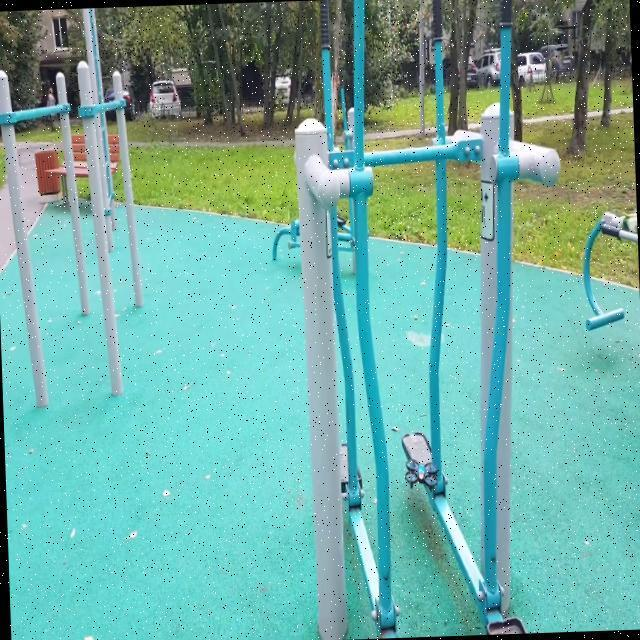Drons: (402, 457, 440, 494)
